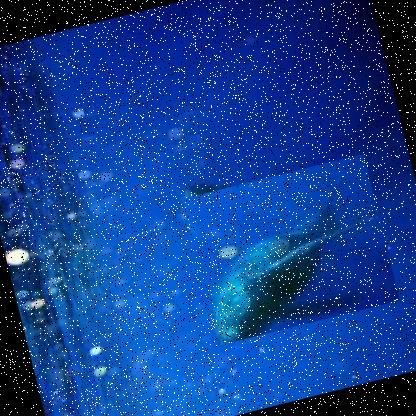blue_whale: (182, 152, 401, 346)
